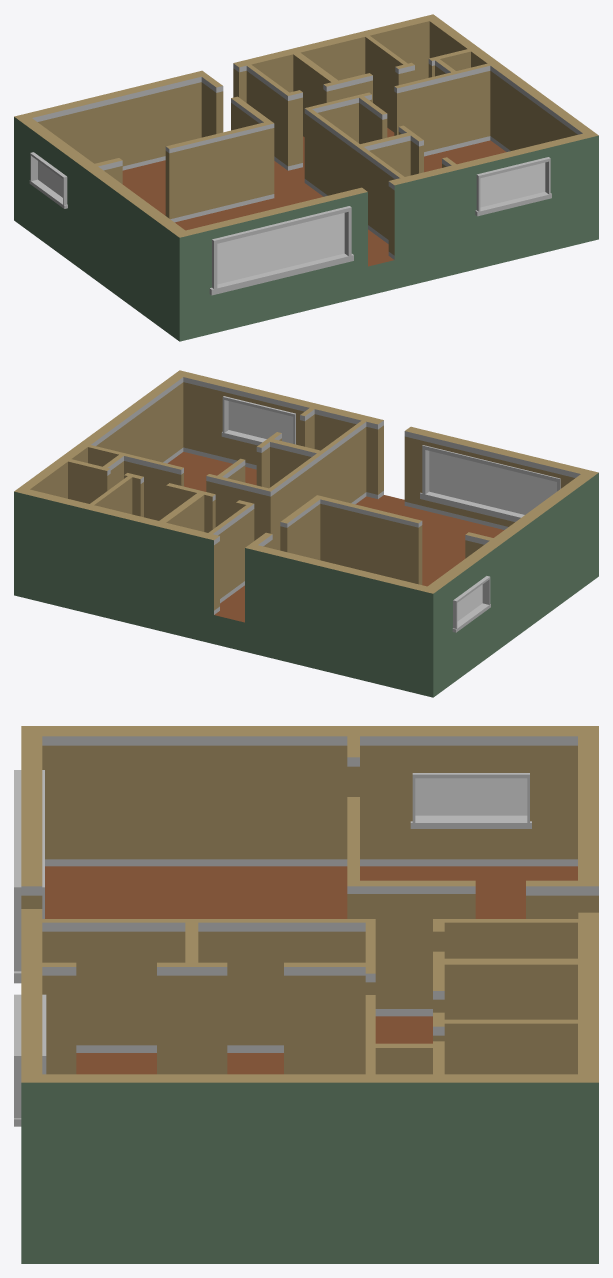
File: Environment.fbx
3 renders of one model, top to bottom at view 1: azimuth 30°, elevation 25°; view 2: azimuth 150°, elevation 25°; view 3: azimuth 270°, elevation 25°, orthographic. The views are drawn at different scales.
Visible parts, largest first — view 1: Environment, Glass Living, Glass Bed, Glass Kitchen; view 2: Environment, Glass Living, Glass Bed, Glass Kitchen; view 3: Environment, Glass Kitchen.
Part boxes in pixels (x1,y1,x2,y2): Environment: (14,14,598,341); Glass Living: (217,213,344,284); Glass Bed: (480,162,545,207); Glass Kitchen: (38,161,62,197); Environment: (14,370,598,697); Glass Living: (429,451,556,514); Glass Bed: (228,401,293,443); Glass Kitchen: (457,584,482,621); Environment: (14,726,598,1263); Glass Kitchen: (415,778,527,815).
Size of the model in its own units: 24208 by 5682 by 16634.
